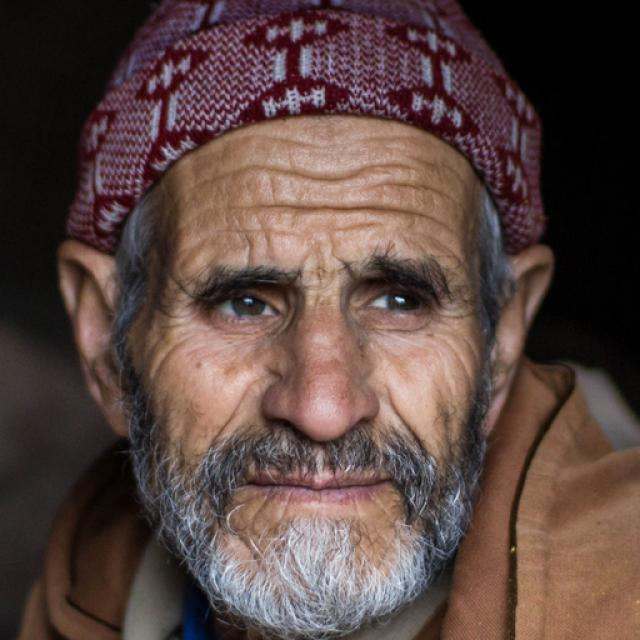sad: (133, 108, 494, 634)
